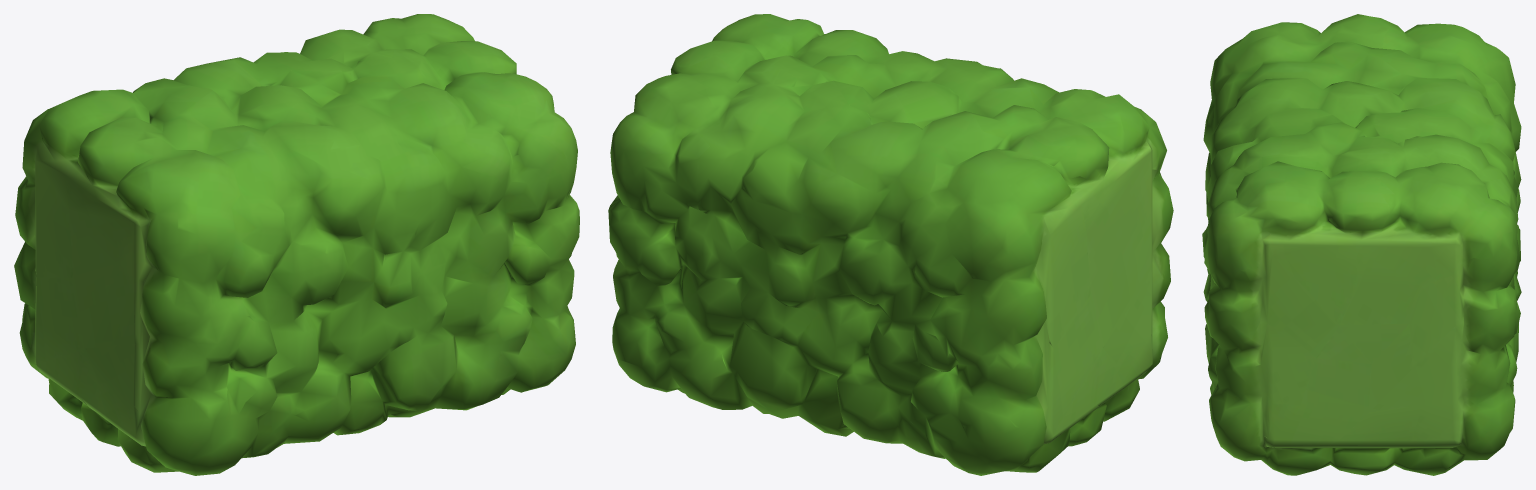
The model's file is 40-arbusto.glb.
3 renders of one model, left to right at view 1: azimuth 30°, elevation 25°; view 2: azimuth 150°, elevation 25°; view 3: azimuth 270°, elevation 25°, orthographic. The views are drawn at different scales.
Parts seen in each view (by area): view 1: tripo_node_c9f152cf-9f6a-4448-9606-89b7e9c33613; view 2: tripo_node_c9f152cf-9f6a-4448-9606-89b7e9c33613; view 3: tripo_node_c9f152cf-9f6a-4448-9606-89b7e9c33613.
Boxes of the visible parts, <box> form: tripo_node_c9f152cf-9f6a-4448-9606-89b7e9c33613: <box>14,14,579,475</box>; tripo_node_c9f152cf-9f6a-4448-9606-89b7e9c33613: <box>608,14,1173,475</box>; tripo_node_c9f152cf-9f6a-4448-9606-89b7e9c33613: <box>1202,14,1521,475</box>.
Size of the model in its own units: 1 by 0.7042 by 0.6905.
1 material, 1 textured.
